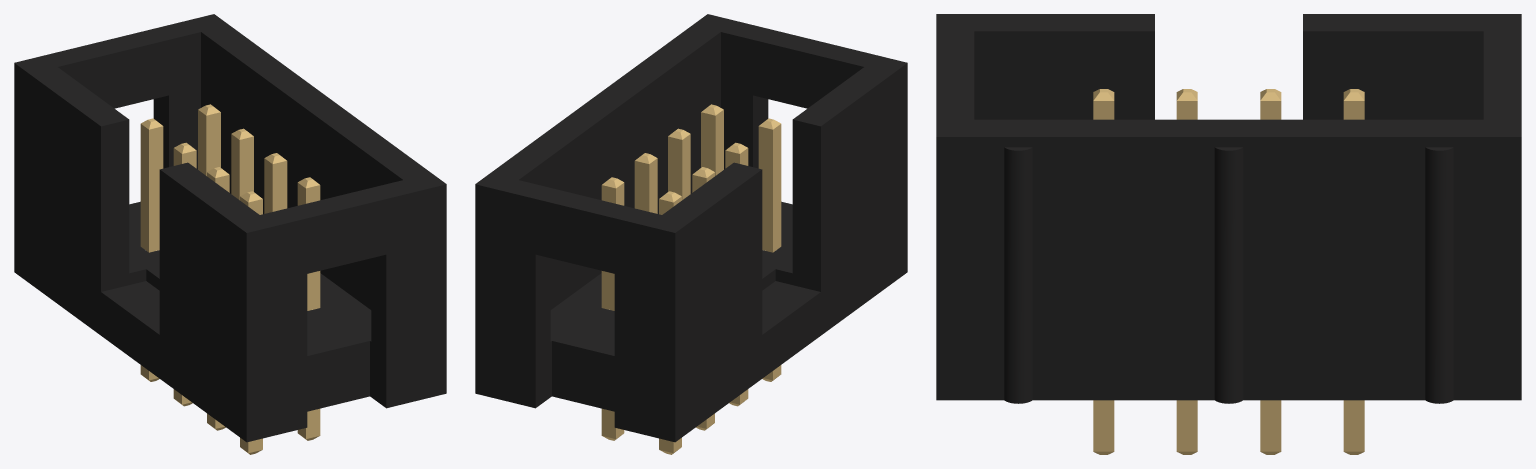
File: kc-idc-header_2x04_p2.54mm_vertical.glb
The picture shows the model from 3 angles, left to right: view 1: azimuth 30°, elevation 25°; view 2: azimuth 150°, elevation 25°; view 3: azimuth 270°, elevation 25°; orthographic projection. The views are drawn at different scales.
Parts seen in each view (by area): view 1: 0_0_0_0, 0.75_0.5_0.25_0.9; view 2: 0_0_0_0, 0.75_0.5_0.25_0.9; view 3: 0_0_0_0, 0.75_0.5_0.25_0.9.
Part boxes in pixels (box(x1,y1,x2,y2)): 0_0_0_0: box(14, 14, 446, 442); 0.75_0.5_0.25_0.9: box(140, 104, 320, 454); 0_0_0_0: box(475, 14, 907, 442); 0.75_0.5_0.25_0.9: box(601, 104, 781, 454); 0_0_0_0: box(936, 14, 1521, 403); 0.75_0.5_0.25_0.9: box(1093, 89, 1364, 454).
Bounding box in the file's own units: 0.9101 × 1.21 × 1.78.
